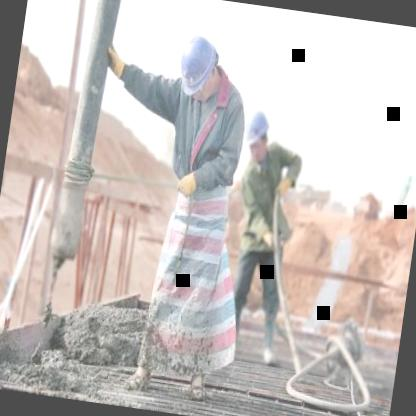helmet: (170, 24, 226, 100), (242, 106, 274, 164)
